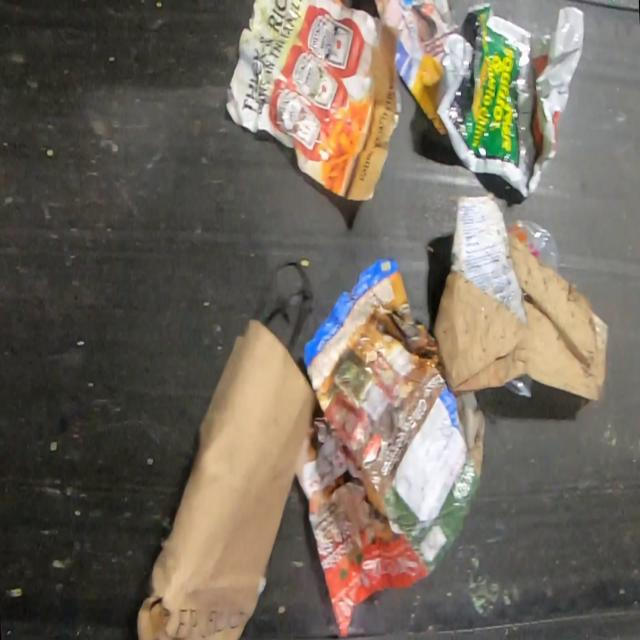cardboard: (137, 317, 317, 639), (431, 194, 611, 406)
rigid_plastic: (509, 214, 561, 276), (504, 372, 534, 397)
soft_plastic: (435, 1, 585, 200)
